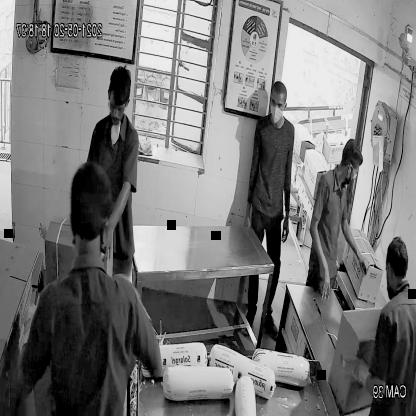goggles: (106, 97, 132, 116)
no_goggles: (269, 99, 287, 111)
